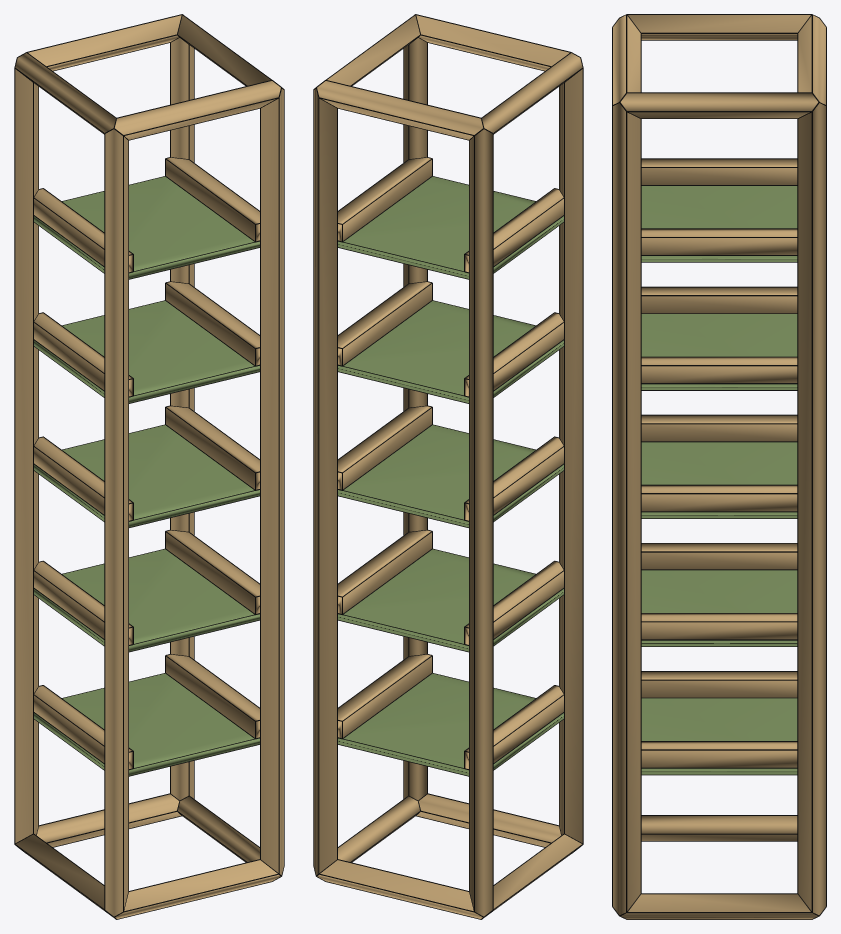
File: 014-bibliotheque.glb
3 renders of one model, left to right at view 1: azimuth 30°, elevation 25°; view 2: azimuth 150°, elevation 25°; view 3: azimuth 270°, elevation 25°, orthographic. The views are drawn at different scales.
Parts seen in each view (by area): view 1: arete-Z0, arete-Z1, arete-Z2, tablette-plate-mod-0, tablette-plate-mod-1, tablette-plate-mod-2, tablette-plate-mod-3, tablette-plate-mod-4, arete-Z3, arete-X2, arete-X0, arete-X3 (+23 smaller); view 2: arete-Z2, arete-Z3, arete-Z0, tablette-plate-mod-0, tablette-plate-mod-1, tablette-plate-mod-2, tablette-plate-mod-3, tablette-plate-mod-4, arete-Z1, arete-X3, arete-X1, arete-X2 (+23 smaller); view 3: arete-Z1, arete-Z3, tablette-plate-mod-0, tablette-plate-mod-2, tablette-plate-mod-1, tablette-plate-mod-3, tablette-plate-mod-4, arete-Y3, arete-Y1, tablette-traverse-right-mod-1, tablette-traverse-left-mod-2, tablette-traverse-left-mod-1 (+27 smaller).
Part boxes in pixels (box(x1,y1,x2,y2)): arete-Z0: box(105, 129, 128, 916); arete-Z1: box(261, 89, 283, 874); arete-Z2: box(15, 69, 38, 842); tablette-plate-mod-0: box(34, 673, 259, 775); tablette-plate-mod-1: box(34, 549, 259, 651); tablette-plate-mod-2: box(34, 425, 259, 527); tablette-plate-mod-3: box(34, 301, 259, 403); tablette-plate-mod-4: box(34, 176, 259, 278); arete-Z3: box(171, 38, 193, 800); arete-X2: box(115, 81, 280, 139); arete-X0: box(115, 860, 280, 918); arete-X3: box(28, 15, 181, 70); arete-Z2: box(469, 129, 492, 916); arete-Z3: box(314, 89, 336, 874); arete-Z0: box(559, 69, 582, 842); tablette-plate-mod-0: box(338, 673, 563, 775); tablette-plate-mod-1: box(338, 549, 563, 651); tablette-plate-mod-2: box(338, 425, 563, 527); tablette-plate-mod-3: box(338, 301, 563, 403); tablette-plate-mod-4: box(338, 176, 563, 278); arete-Z1: box(404, 38, 426, 800); arete-X3: box(317, 81, 482, 139); arete-X1: box(317, 860, 482, 918); arete-X2: box(416, 15, 569, 70); arete-Z1: box(613, 103, 640, 914); arete-Z3: box(798, 103, 825, 914); tablette-plate-mod-0: box(641, 698, 797, 774); tablette-plate-mod-2: box(641, 442, 797, 518); tablette-plate-mod-1: box(641, 570, 797, 646); tablette-plate-mod-3: box(641, 314, 797, 389); tablette-plate-mod-4: box(641, 186, 797, 261); arete-Y3: box(620, 93, 818, 118); arete-Y1: box(621, 894, 817, 919); tablette-traverse-right-mod-1: box(641, 613, 797, 639); tablette-traverse-left-mod-2: box(641, 415, 797, 441); tablette-traverse-left-mod-1: box(641, 543, 797, 569).
Bounding box in the file's own units: 0.4309 × 1.83 × 0.4309.
